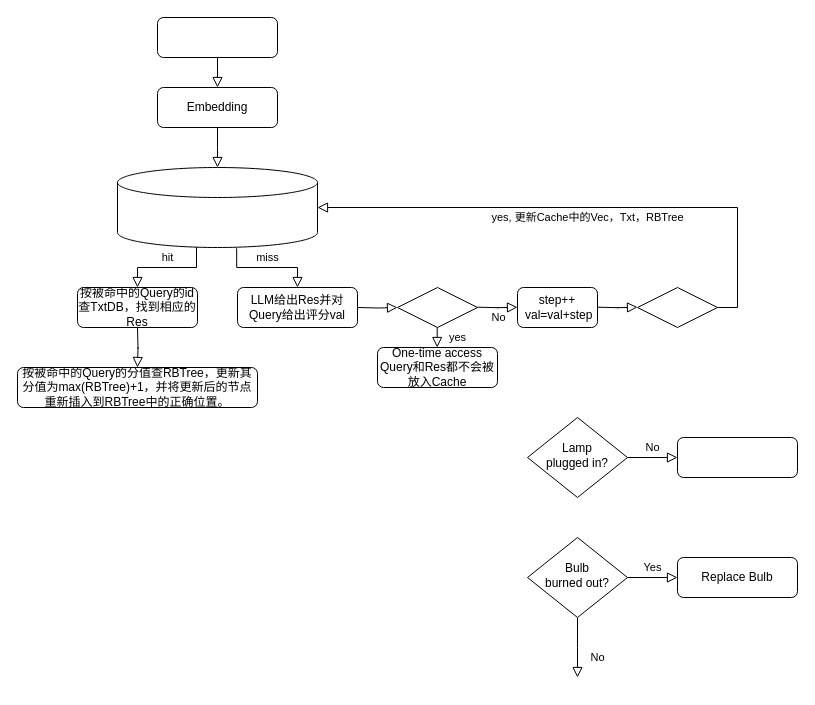
This 815x705 diagram has some shape labels left out. The shapes that lost their labels are listed below. From the top down, each one's box as (x1, y1, x2, y2) in pixels, then its label:
(156, 16, 278, 58): Query step=0
(116, 166, 318, 248): Cache(VecDB, TxtDB, Red-Black Tree)
(396, 286, 478, 328): val<N
(636, 286, 718, 328): val>min(Tree)
(676, 436, 798, 478): Plug in lamp
